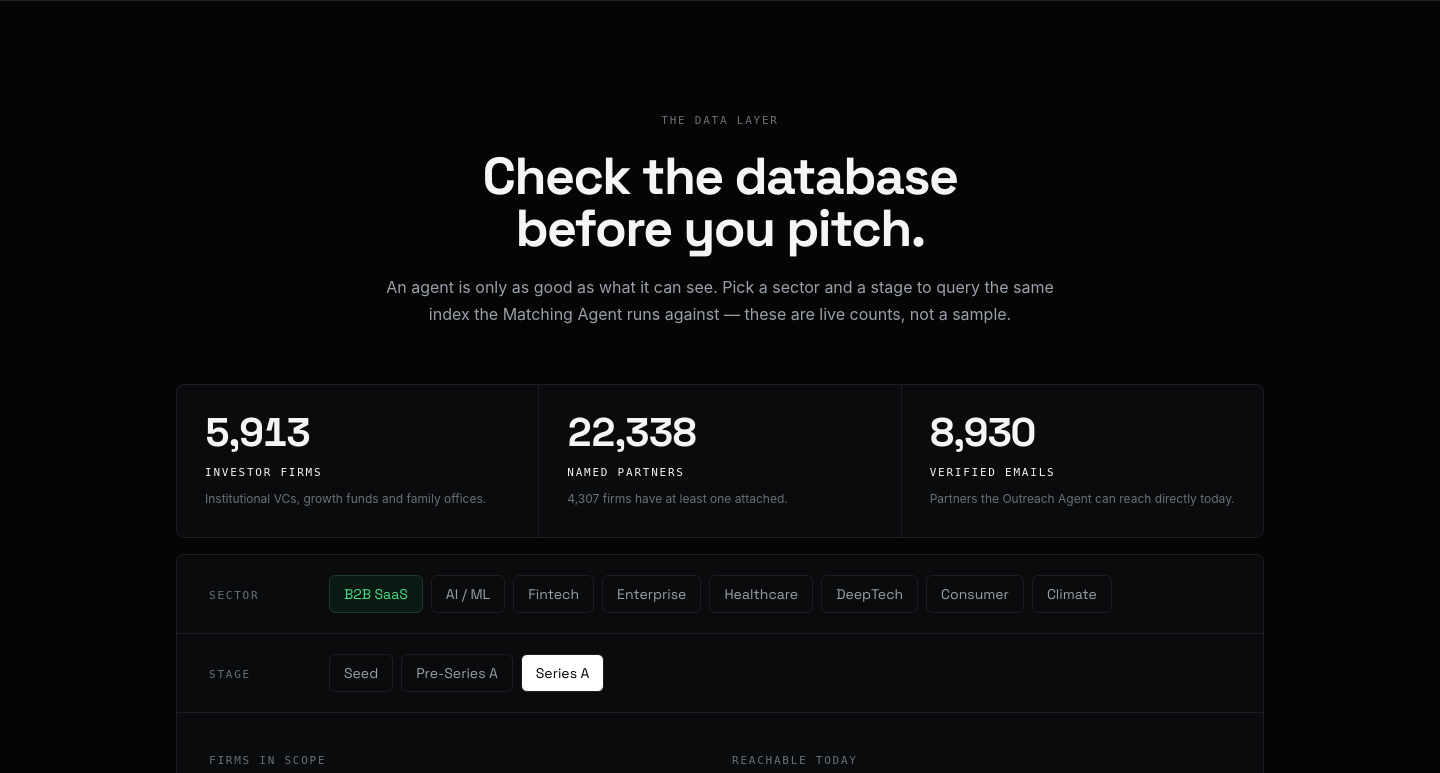
Test: Database coverage check › swaps both figures when the stage changes
This screenshot has width=1440, height=773.
Click the button "Seed": point(361, 673) [329, 654, 393, 692]
(page scrolled)
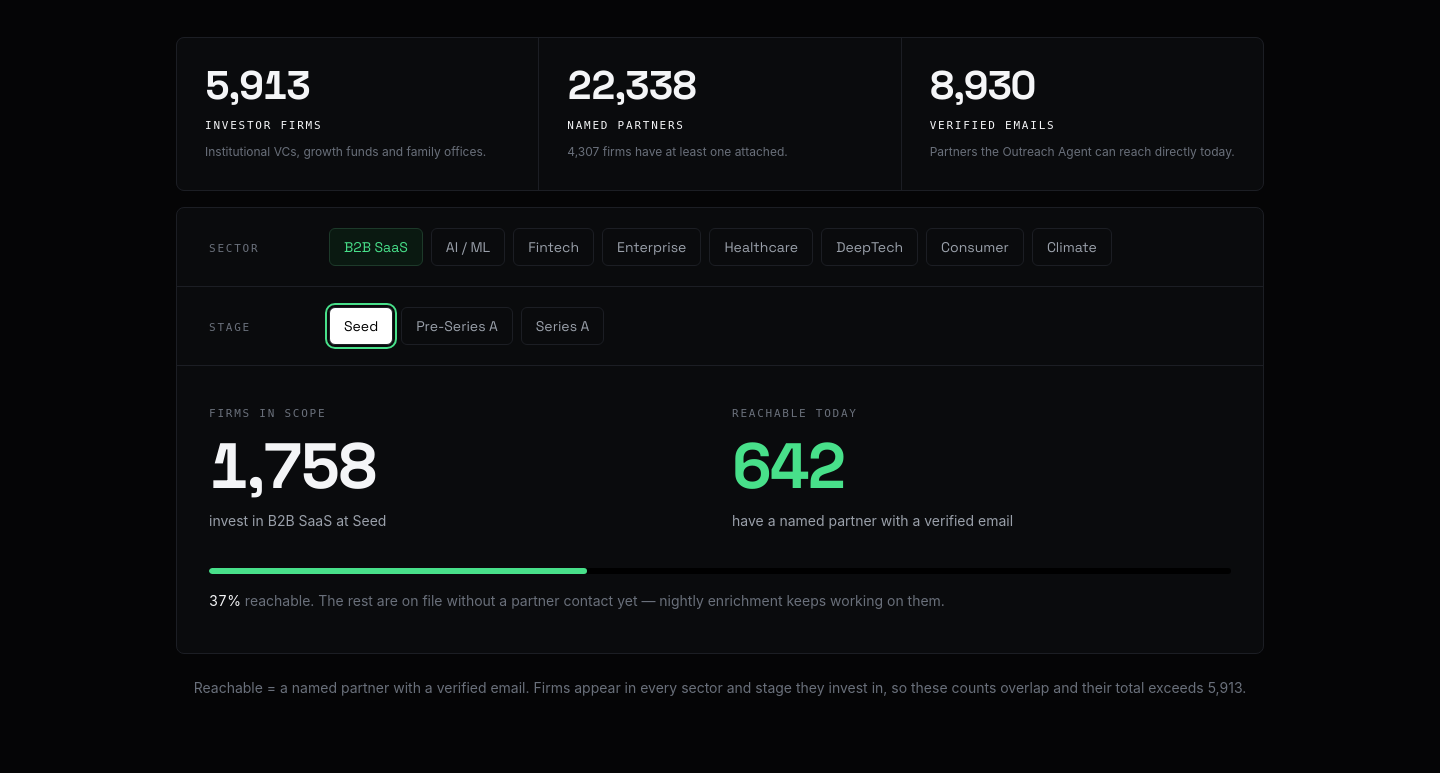
Result: the text "642" is shown at [732, 425, 844, 507]
